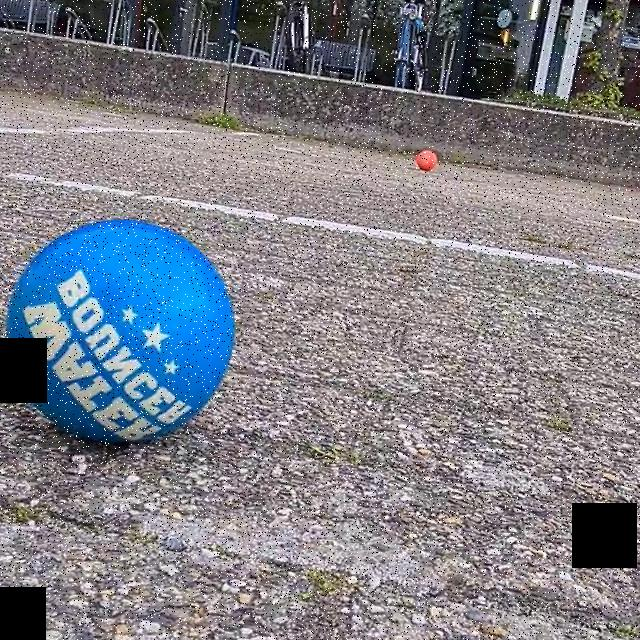ball: (415, 145, 438, 174)
